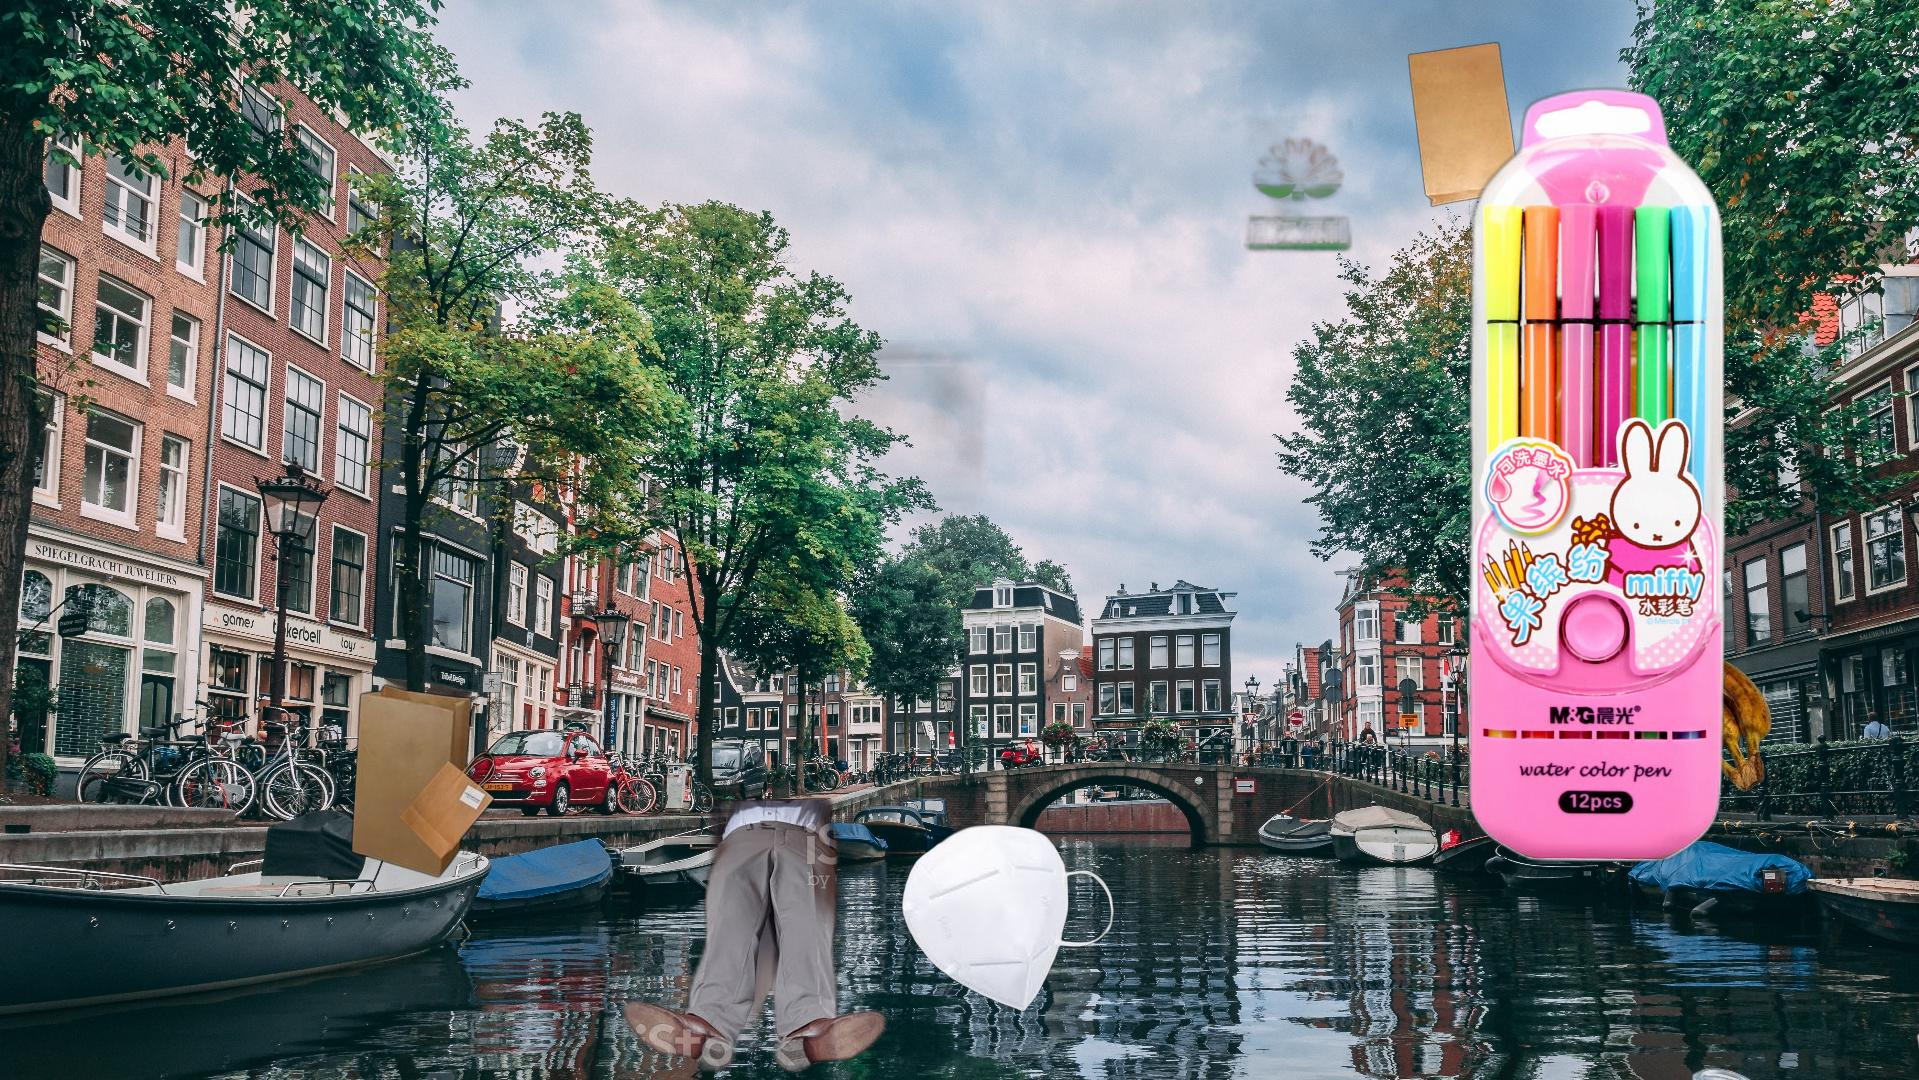biological: (1549, 641, 1775, 806)
paper: (1912, 1000, 1919, 1080)
paper-bag: (349, 682, 498, 880), (1406, 40, 1522, 210)
penholder: (1194, 74, 1732, 869)
trash: (899, 822, 1116, 1014)
trashbox-cardboard: (203, 340, 1104, 1077)
